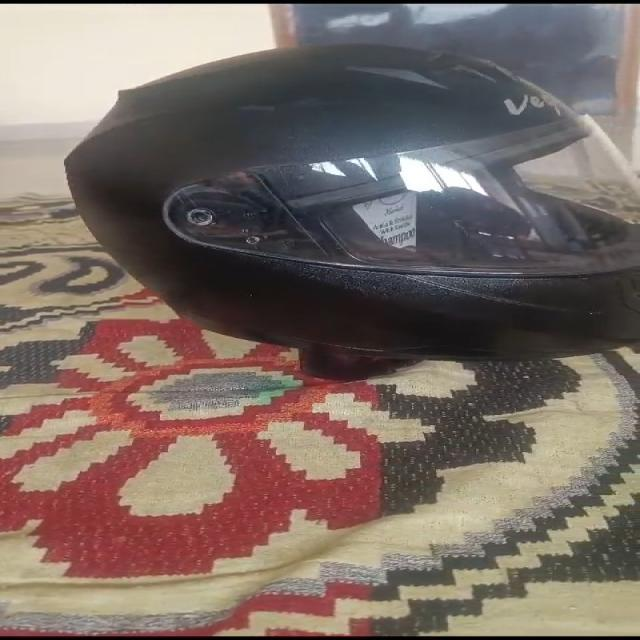Helmet: (61, 42, 640, 363)
